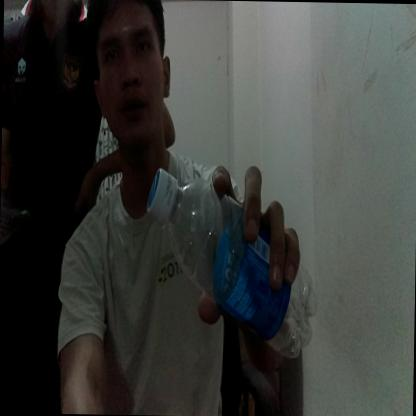plastic_bottles: (141, 170, 318, 357)
